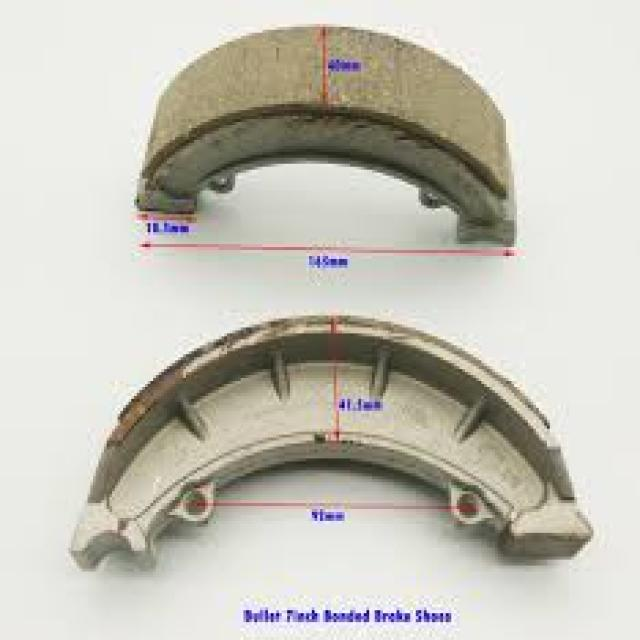brake_pad: (72, 316, 598, 570), (130, 34, 520, 256)
